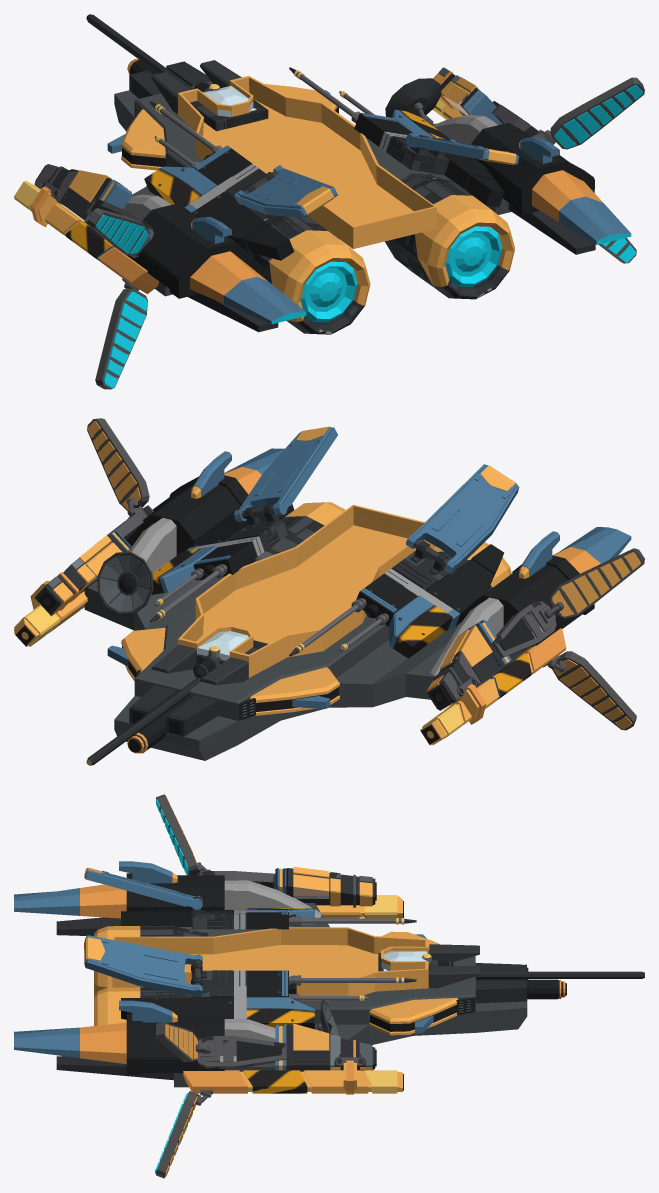
Rendered from pirate_ship.fbx.
The picture shows the model from 3 angles, top to bottom: view 1: azimuth 30°, elevation 25°; view 2: azimuth 150°, elevation 25°; view 3: azimuth 270°, elevation 25°; orthographic projection. The views are drawn at different scales.
Parts seen in each view (by area): view 1: pirate_ship; view 2: pirate_ship; view 3: pirate_ship.
Part boxes in pixels (box(x1,y1,x2,y2)): pirate_ship: box(14, 14, 644, 389); pirate_ship: box(14, 418, 644, 765); pirate_ship: box(14, 794, 644, 1178).
Size of the model in its own units: 12425 by 4040 by 14049.
1 material, 1 textured.
